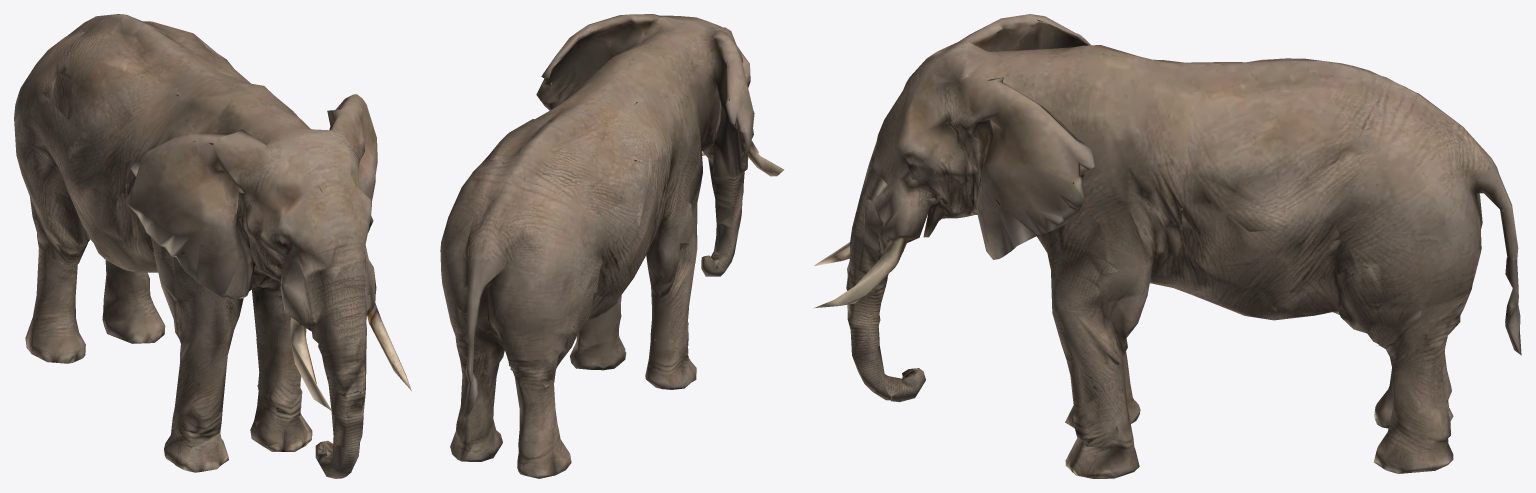
Rendered from elephant.glb.
3 renders of one model, left to right at view 1: azimuth 30°, elevation 25°; view 2: azimuth 150°, elevation 25°; view 3: azimuth 270°, elevation 25°, orthographic. The views are drawn at different scales.
Visible parts, largest first — view 1: elephant; view 2: elephant; view 3: elephant.
Boxes of the visible parts, bbox=[...] form: elephant: bbox=[14, 14, 411, 478]; elephant: bbox=[440, 14, 784, 478]; elephant: bbox=[814, 14, 1521, 478].
Bounding box in the file's own units: 2.36 × 3.38 × 5.5.
Materials: 1 (1 with a texture image).
